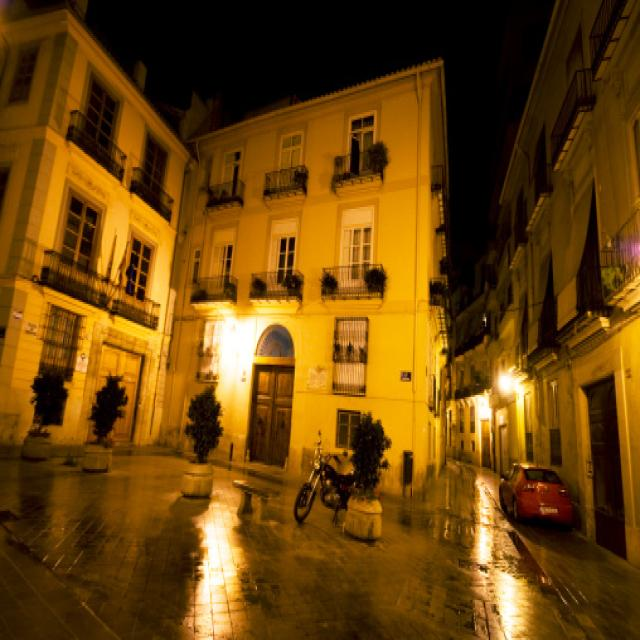Motorbike: (294, 443, 380, 532)
